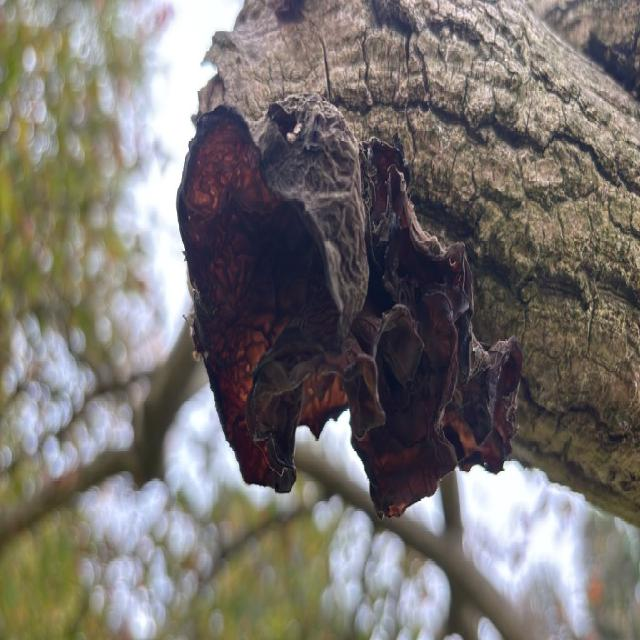Matang: (170, 88, 530, 574)
